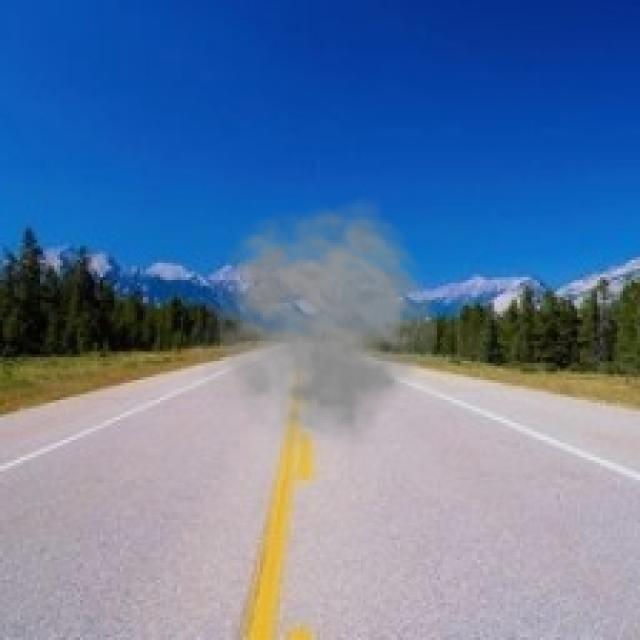smoke: (189, 197, 440, 463)
